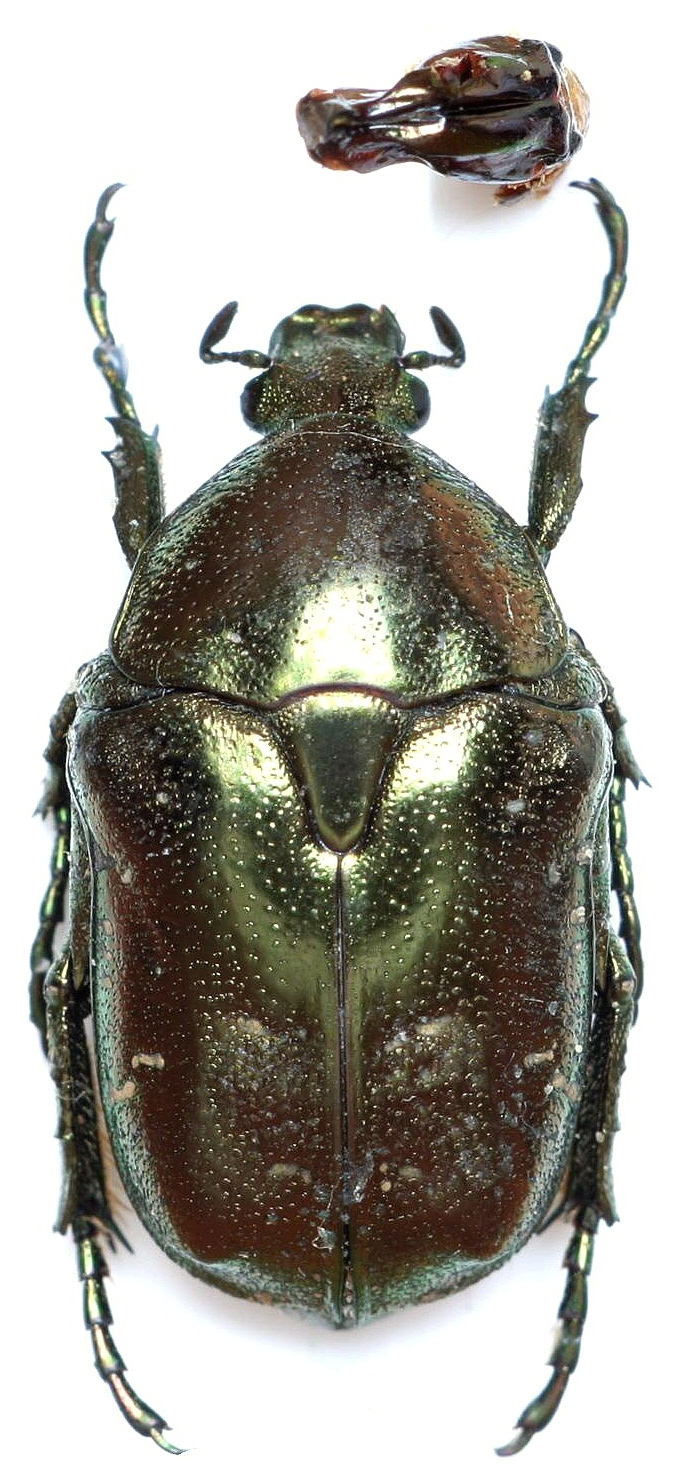Protaetia _orientalis: (28, 162, 628, 1461)
